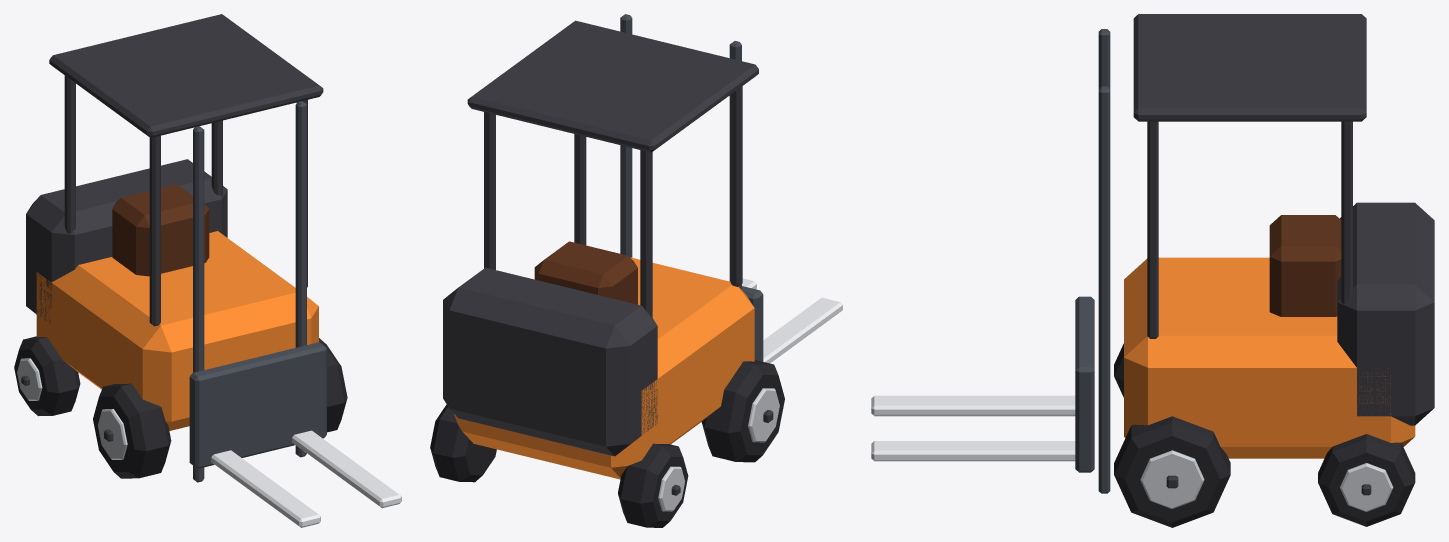
The model's file is Forklift.fbx.
The picture shows the model from 3 angles, left to right: view 1: azimuth 30°, elevation 25°; view 2: azimuth 150°, elevation 25°; view 3: azimuth 270°, elevation 25°; orthographic projection. The views are drawn at different scales.
Visible parts, largest first — view 1: Forklift, Forklift_Forks, Forklift_WheelFR, Forklift_WheelBR, Forklift_WheelFL; view 2: Forklift, Forklift_WheelFR, Forklift_WheelBR, Forklift_Forks, Forklift_WheelBL; view 3: Forklift, Forklift_Forks, Forklift_WheelFL, Forklift_WheelBL.
Part boxes in pixels (x1,y1,x2,y2): Forklift: (26, 14, 323, 482); Forklift_Forks: (189, 342, 401, 527); Forklift_WheelFR: (93, 383, 171, 478); Forklift_WheelBR: (14, 336, 80, 416); Forklift_WheelFL: (319, 338, 347, 432); Forklift: (443, 14, 758, 479); Forklift_WheelFR: (701, 360, 784, 462); Forklift_WheelBR: (618, 443, 688, 527); Forklift_Forks: (742, 278, 842, 363); Forklift_WheelBL: (430, 404, 496, 482); Forklift: (1098, 14, 1434, 493); Forklift_Forks: (871, 296, 1094, 472); Forklift_WheelFL: (1114, 416, 1230, 527); Forklift_WheelBL: (1318, 434, 1415, 526).
Size of the model in its own units: 3.12 by 4.7 by 5.8.
1 material, 1 textured.
